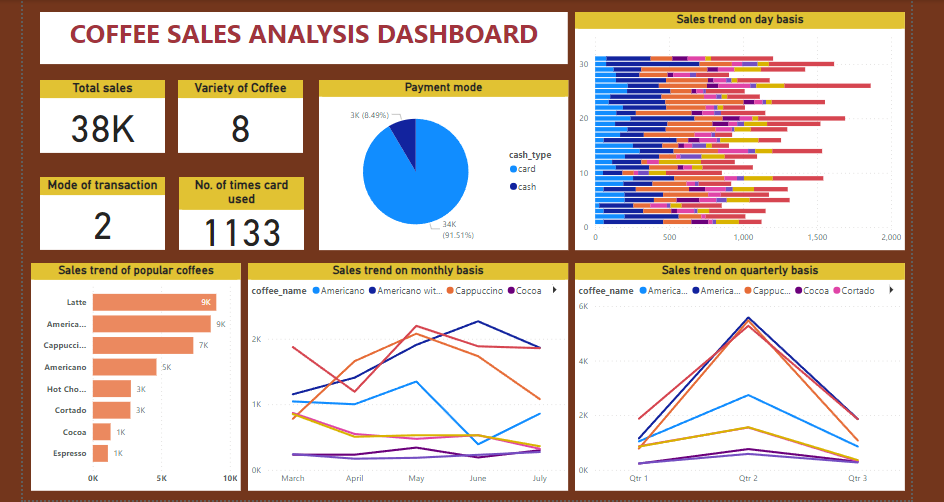

What the dashboard file says about the page in this screenshot:
{"tool":"powerbi","page":{"name":"Page 1","canvas":[1280,720],"ordinal":0},"visuals":[{"type":"barChart","title":"Sales trend of popular coffees","fields":{"Category":["index.coffee_name"],"Y":["Sum(index.money)"]},"box":[11.5,378.7,302.4,328.3],"z":0},{"type":"pieChart","title":"Payment mode","fields":{"Category":["index.cash_type"],"Y":["Sum(index.money)"]},"box":[426.2,115.2,358.6,244.8],"z":1000},{"type":"barChart","title":"Sales trend on day basis","fields":{"Category":["index.date.Variation.Date Hierarchy.Year","index.date.Variation.Date Hierarchy.Quarter","index.date.Variation.Date Hierarchy.Month","index.date.Variation.Date Hierarchy.Day"],"Y":["Sum(index.money)"],"Series":["index.coffee_name"]},"box":[794.9,17.3,475.2,342.7],"z":4000},{"type":"lineChart","title":"Sales trend on quarterly basis","fields":{"Category":["index.date.Variation.Date Hierarchy.Quarter"],"Y":["Sum(index.money)"],"Series":["index.coffee_name"]},"box":[794.9,378.7,475.2,328.3],"z":4001},{"type":"lineChart","title":"Sales trend on monthly basis","fields":{"Category":["index.date.Variation.Date Hierarchy.Quarter","index.date.Variation.Date Hierarchy.Month"],"Y":["Sum(index.money)"],"Series":["index.coffee_name"]},"box":[324,378.7,460.8,328.3],"z":4002},{"type":"textbox","box":[24.5,17.3,760.3,74.9],"z":4003},{"type":"card","title":"Total sales","fields":{"Values":["Sum(index.money)"]},"box":[24.5,115.2,180,105.1],"z":4004},{"type":"card","title":"Variety of Coffee","fields":{"Values":["Count(index.coffee_name)"]},"box":[223.2,115.2,180,105.1],"z":4005},{"type":"card","title":"No. of times card used","fields":{"Values":["CountNonNull(index.card)"]},"box":[224.6,254.9,180,105.1],"z":4006},{"type":"card","title":"Mode of transaction","fields":{"Values":["Count(index.cash_type)"]},"box":[24.5,254.9,180,105.1],"z":4007}]}

Visuals, with their boxes in screenshot pixels (x1, y1, x2, y2):
"Sales trend of popular coffees" barChart: 35/260/243/486
"Payment mode" pieChart: 320/79/566/247
"Sales trend on day basis" barChart: 573/12/899/247
"Sales trend on quarterly basis" lineChart: 573/260/899/486
"Sales trend on monthly basis" lineChart: 250/260/566/486
textbox: 44/12/566/63
"Total sales" card: 44/79/168/151
"Variety of Coffee" card: 180/79/304/151
"No. of times card used" card: 181/175/305/247
"Mode of transaction" card: 44/175/168/247
